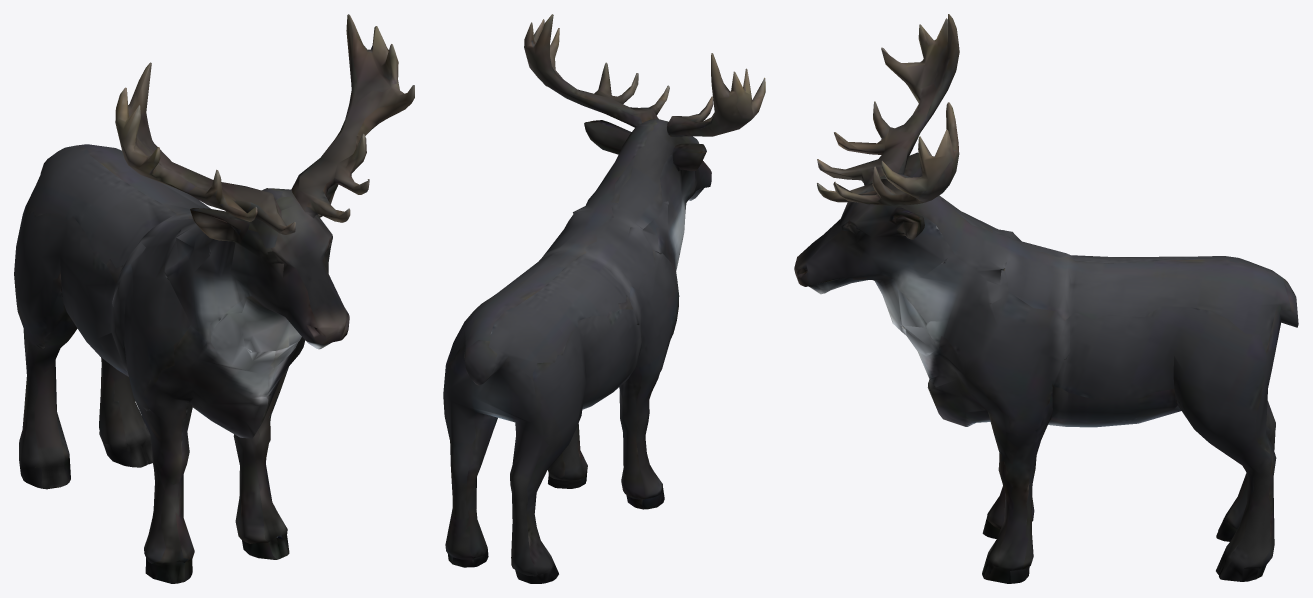
The model's file is reindeer.glb.
The picture shows the model from 3 angles, left to right: view 1: azimuth 30°, elevation 25°; view 2: azimuth 150°, elevation 25°; view 3: azimuth 270°, elevation 25°; orthographic projection. The views are drawn at different scales.
Parts seen in each view (by area): view 1: Mesh; view 2: Mesh; view 3: Mesh.
Part boxes in pixels (box(x1,y1,x2,y2)): Mesh: box(14, 14, 414, 583); Mesh: box(443, 14, 765, 583); Mesh: box(794, 14, 1298, 583).
Size of the model in its own units: 1 by 1.9 by 1.75.
Materials: 1 (1 with a texture image).
